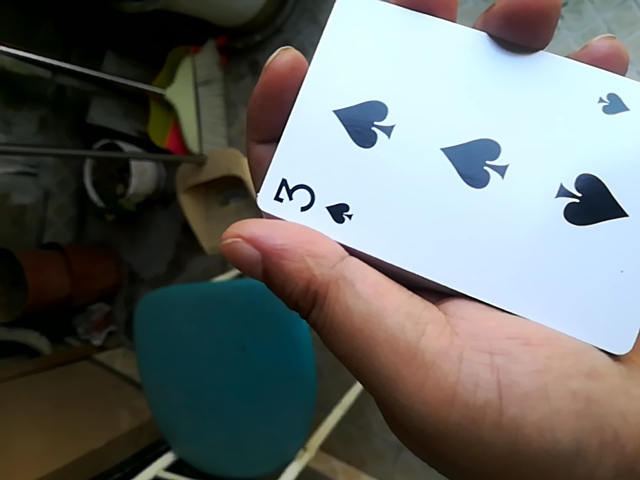ht 3: (249, 0, 638, 370)
